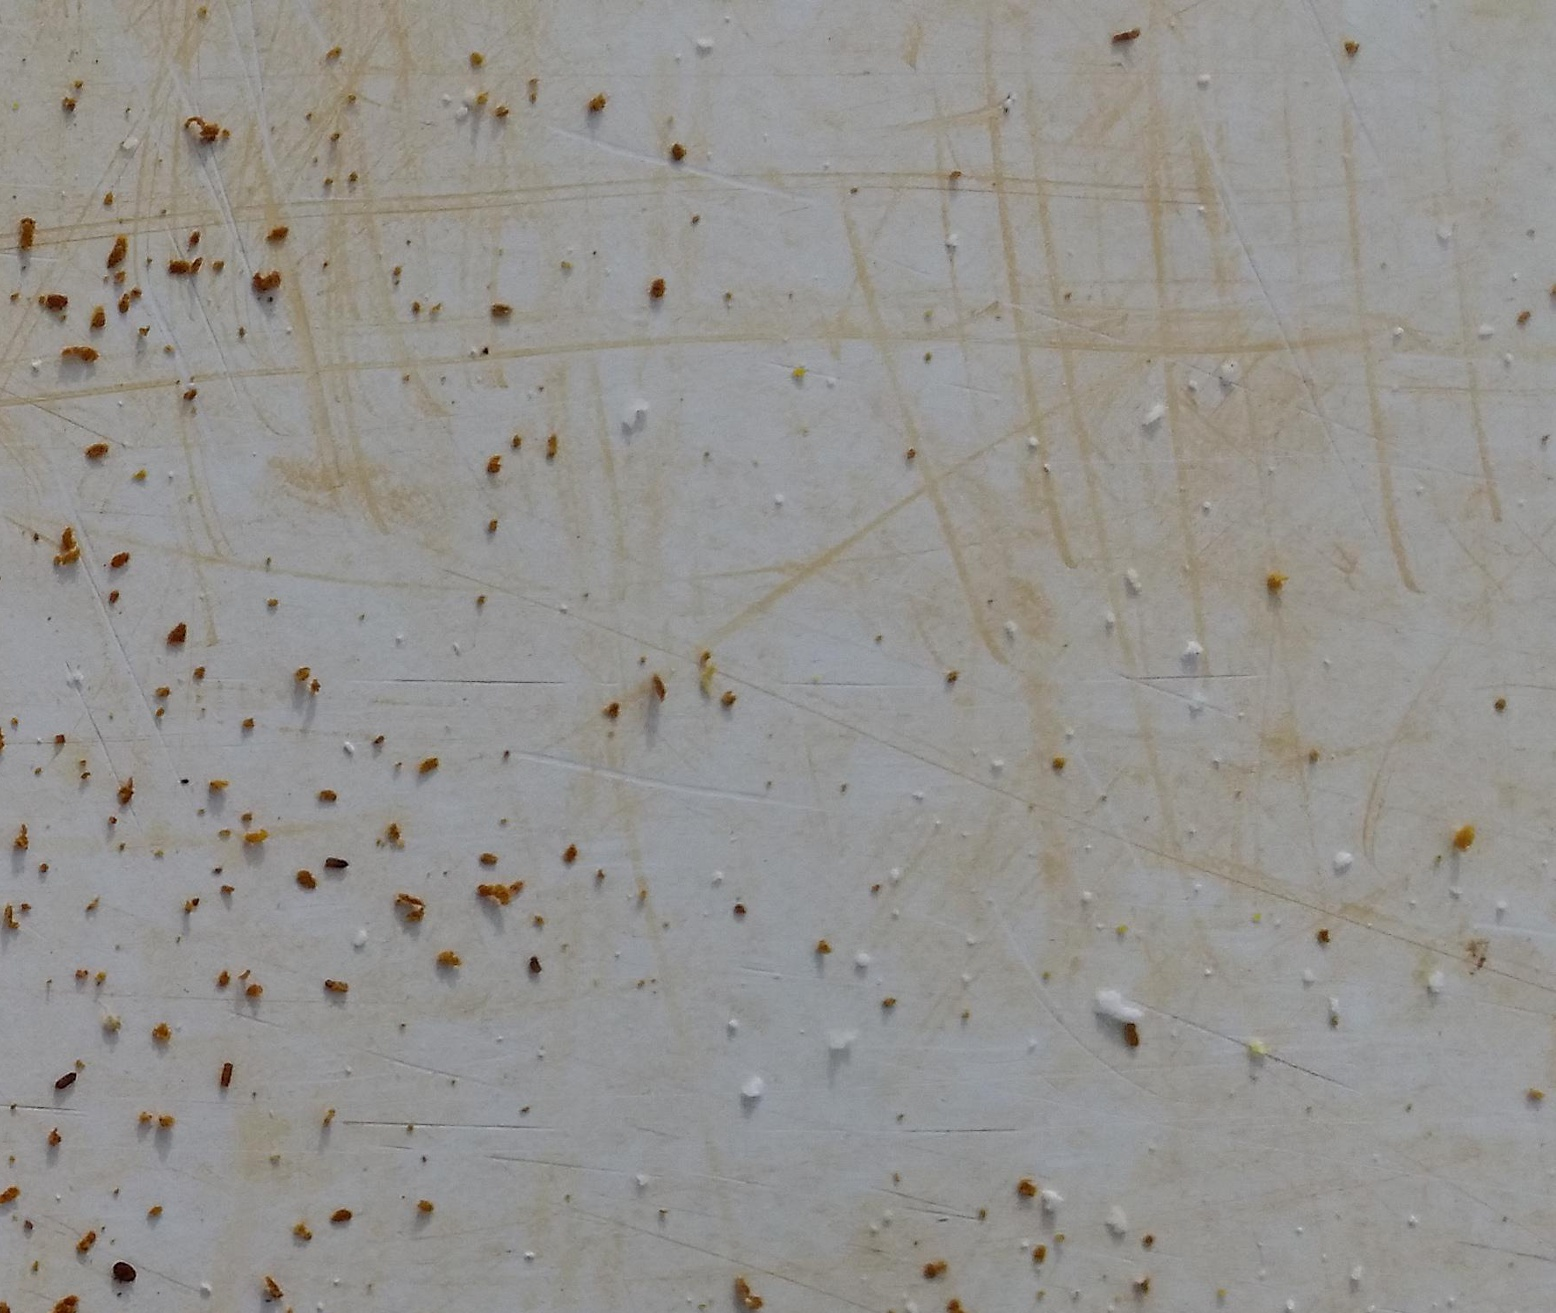Varroa: (109, 1253, 141, 1288)
